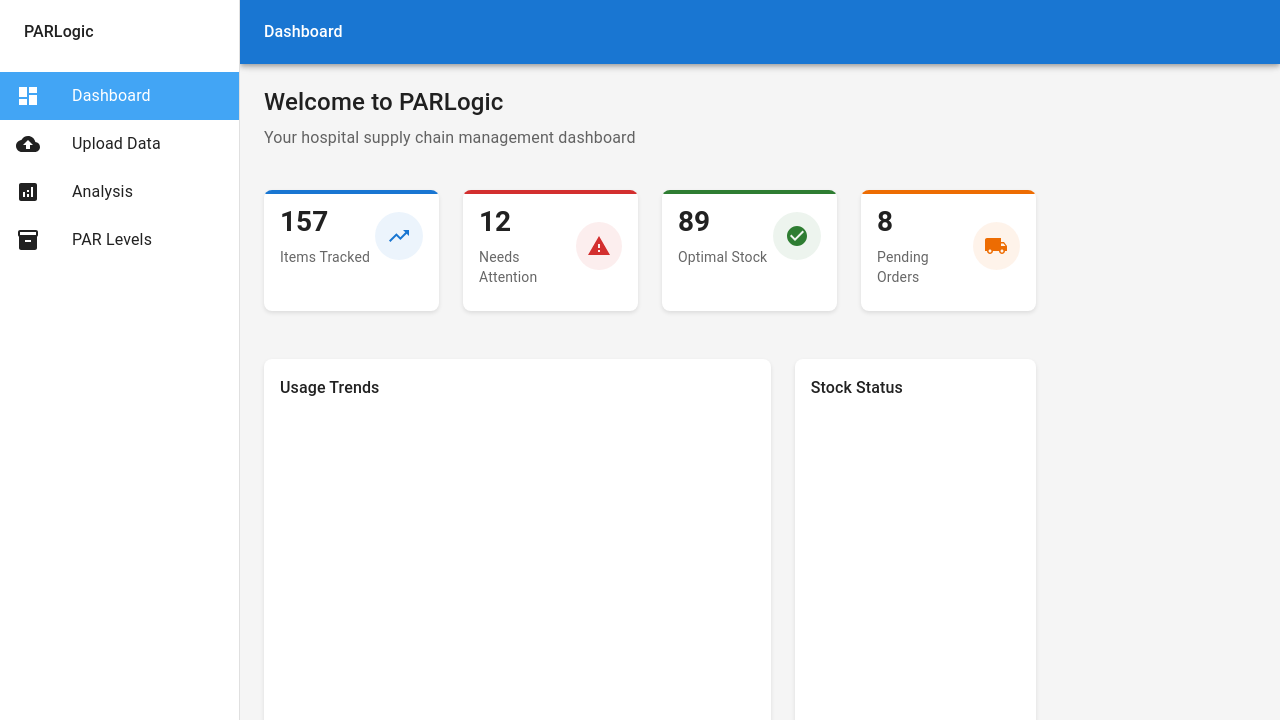
it: Navigation › should navigate to Upload Data page
Click the text "Upload Data" at (117, 144), box left=72, top=134, right=161, bottom=153
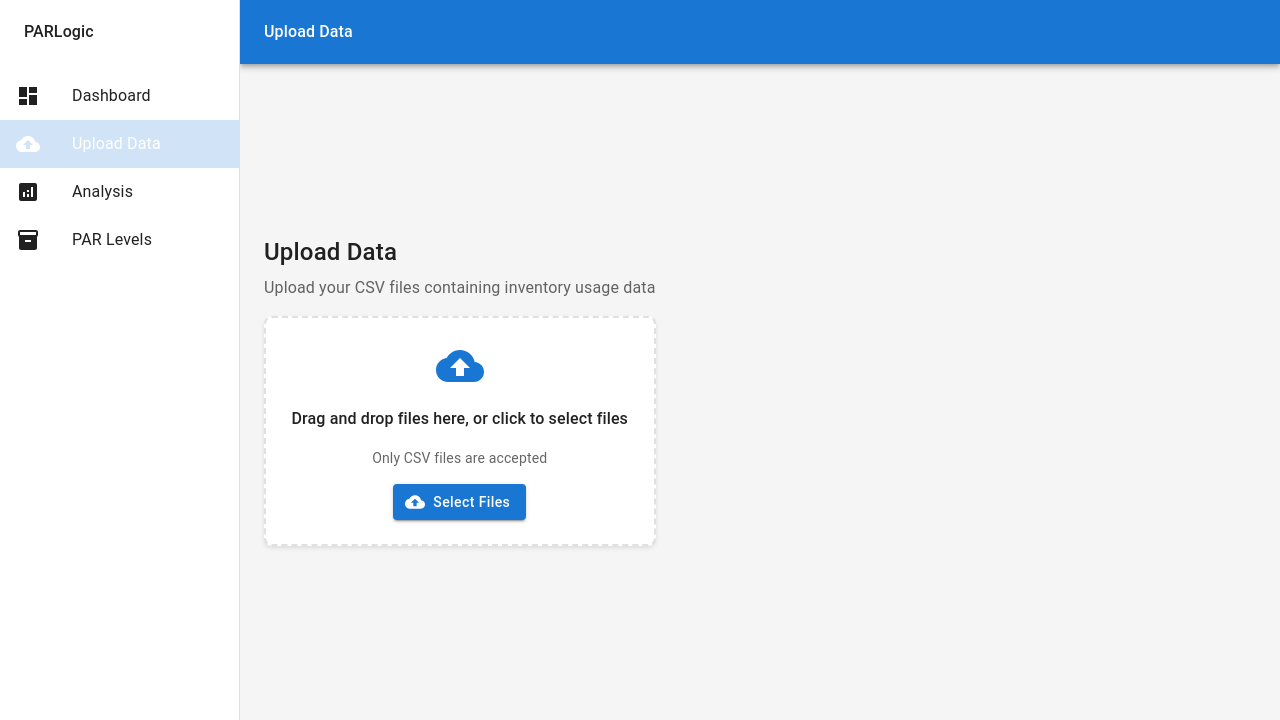
Expected: the heading "Upload Data" is shown, left=264, top=238, right=397, bottom=266
